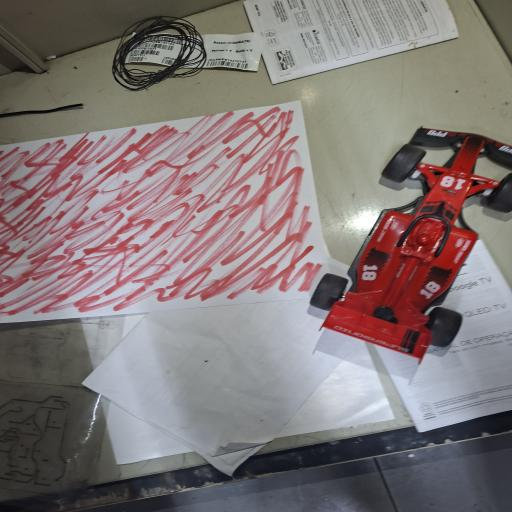carro: (311, 128, 511, 358)
